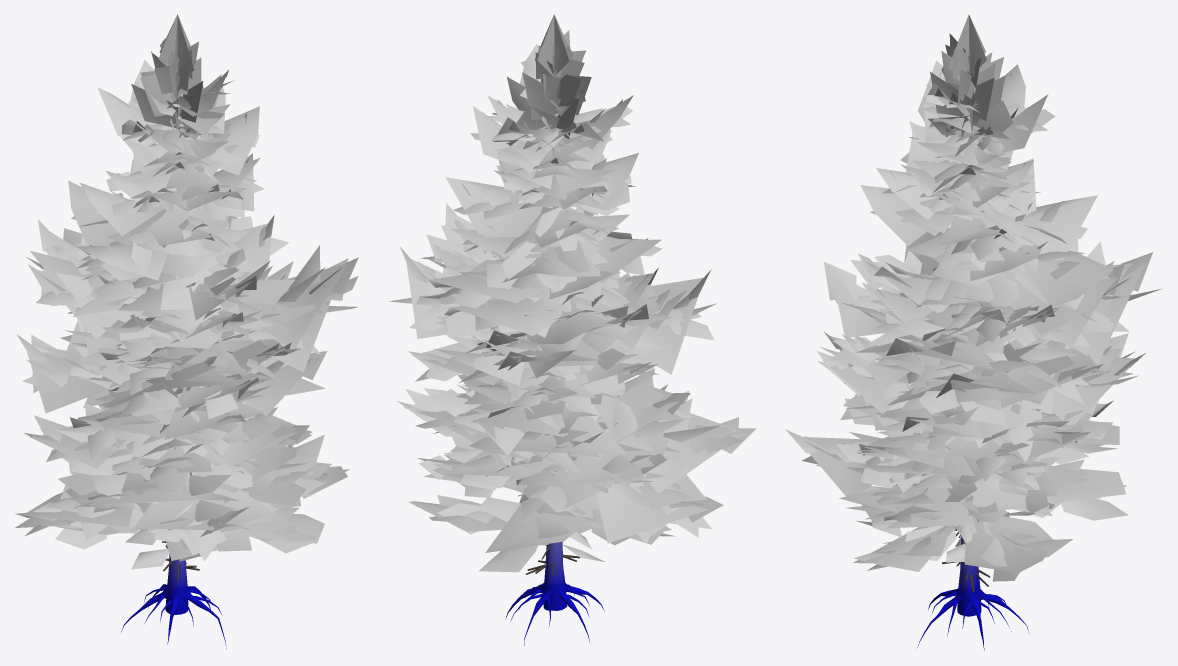
File: Tree4_LOD1.fbx
3 views of the same model, side by side, from view 1: azimuth 30°, elevation 25°; view 2: azimuth 150°, elevation 25°; view 3: azimuth 270°, elevation 25° (orthographic).
Parts seen in each view (by area): view 1: polySurface1878; view 2: polySurface1878; view 3: polySurface1878.
Part boxes in pixels (x1,y1,x2,y2): polySurface1878: [15, 14, 358, 648]; polySurface1878: [389, 14, 756, 645]; polySurface1878: [785, 14, 1162, 650].
Bounding box in the file's own units: 810 × 1464 × 802.
